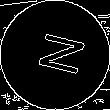N_W: (26, 29, 84, 81)
